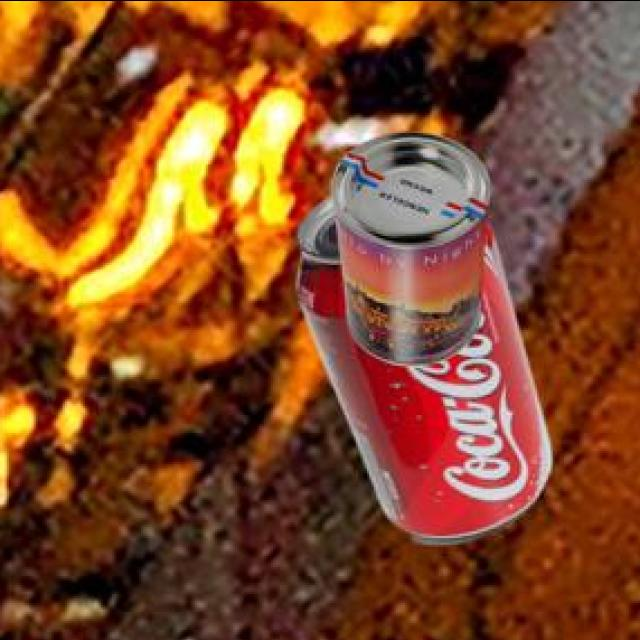logam: (294, 200, 547, 547), (328, 135, 487, 368)
